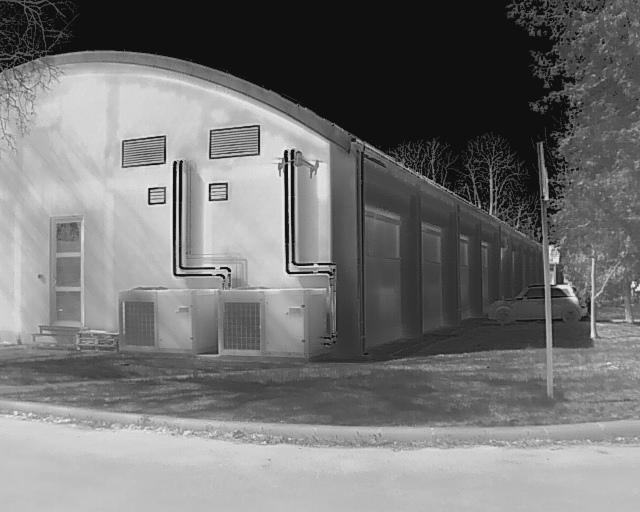drone: (262, 150, 323, 181)
